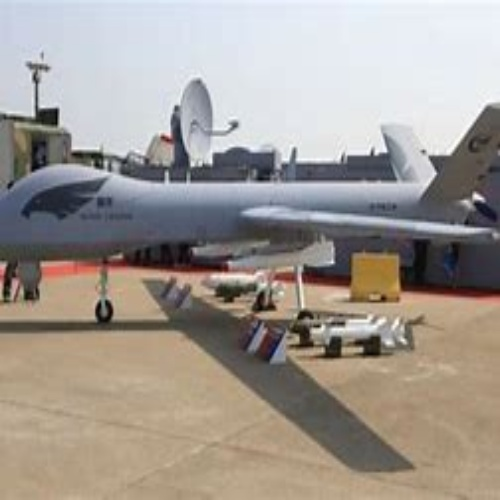uav: (1, 110, 500, 314)
